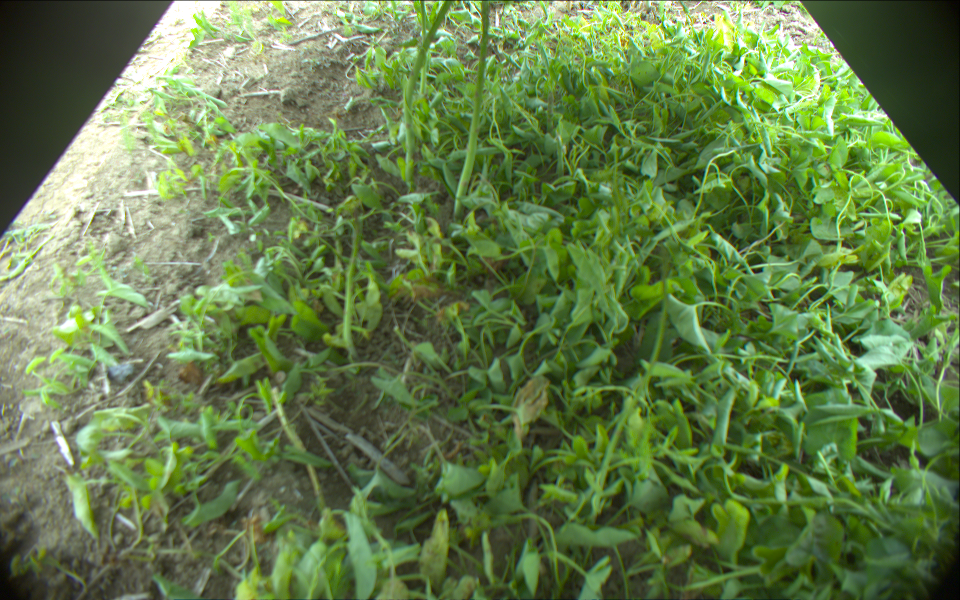aspa: (596, 242, 670, 495), (405, 1, 453, 171), (454, 1, 489, 218), (344, 213, 362, 361), (417, 1, 426, 96)
